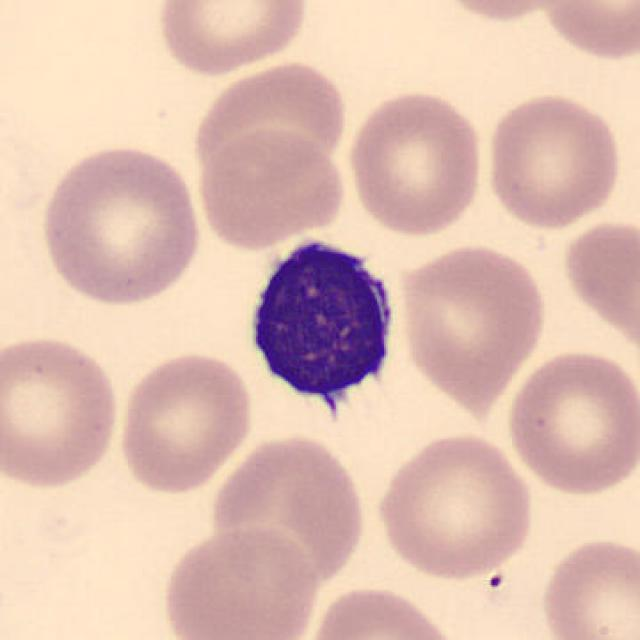Lymphocyte: (235, 226, 409, 434)
RBC: (36, 139, 206, 309), (206, 429, 370, 587), (371, 428, 537, 582), (395, 240, 551, 400), (343, 85, 487, 238), (114, 348, 256, 496), (188, 57, 350, 185), (503, 346, 638, 499), (482, 88, 626, 231), (0, 330, 124, 492), (192, 126, 350, 250), (158, 523, 320, 640), (153, 0, 313, 78), (558, 213, 638, 360), (535, 532, 638, 640), (300, 582, 464, 640), (533, 0, 639, 63), (430, 0, 583, 25)
